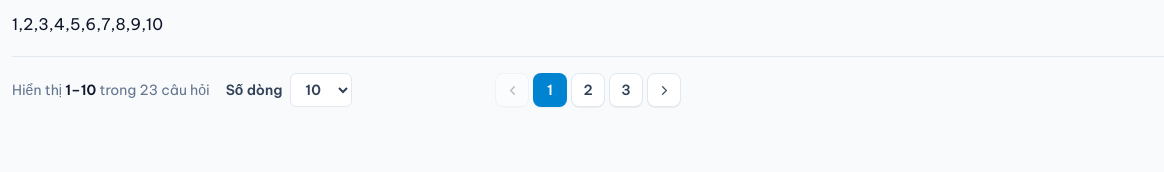
Test: Pagination › chuyển trang và đặt lại trang khi đổi số dòng
Check: the text "1,2,3,4,5,6,7,8,9,10" is shown, box top-left (12, 14), bottom-right (163, 34)
Click the button named "Trang 2" at (588, 90), box top-left (571, 73), bottom-right (605, 107)
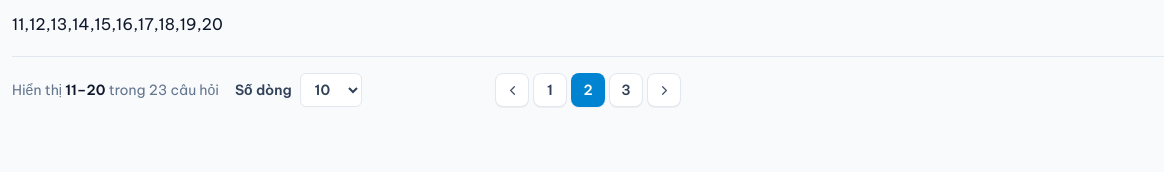
Check: the text "11,12,13,14,15,16,17,18,19,20" is shown, box top-left (12, 14), bottom-right (223, 34)
Select "20" in the dropdown named "Số câu hỏi mỗi trang" at (331, 90), box top-left (300, 73), bottom-right (362, 107)
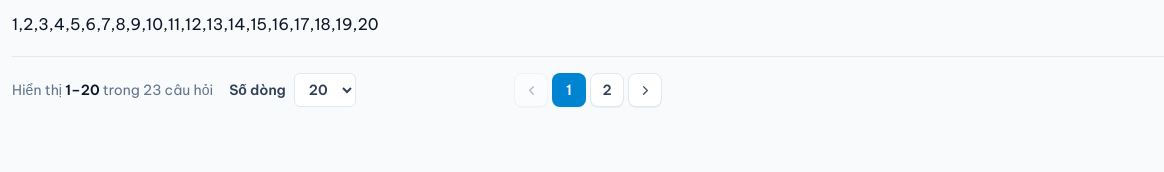
Check: the text "1,2,3,4,5,6,7,8,9,10,11,12,13,14,15,16,17,18,19,20" is shown, box top-left (12, 14), bottom-right (379, 34)
Check: the text "Hiển thị 1–20 trong 23 câu hỏi" is shown, box top-left (12, 80), bottom-right (213, 100)
